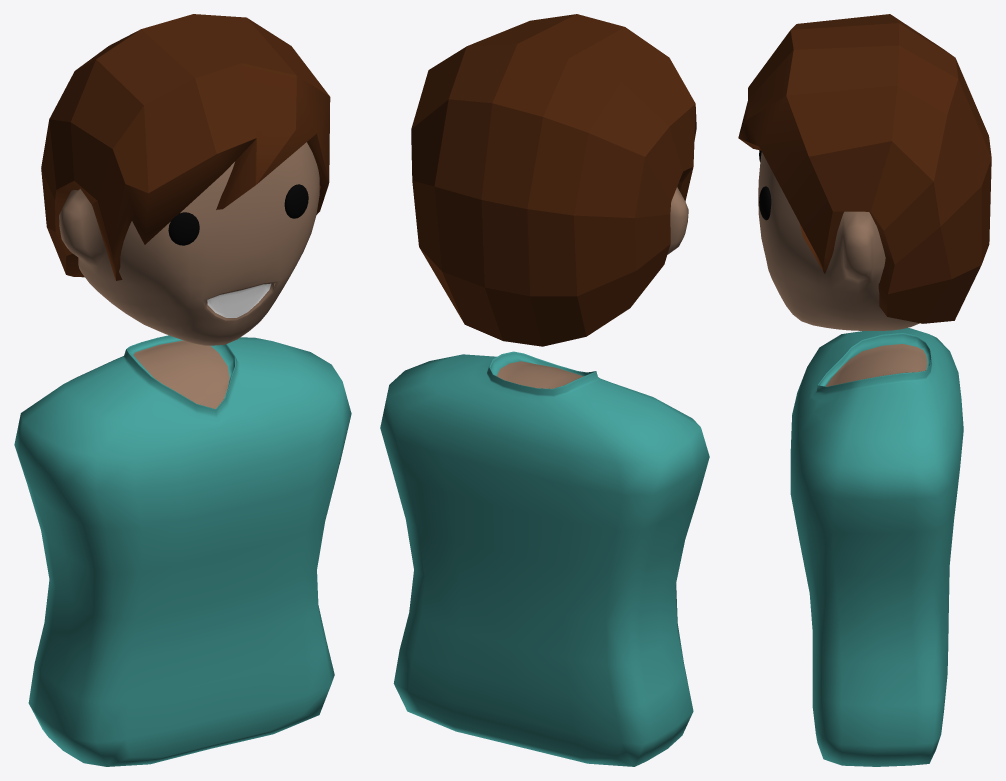
File: teleportAvatar.glb
3 views of the same model, side by side, from view 1: azimuth 30°, elevation 25°; view 2: azimuth 150°, elevation 25°; view 3: azimuth 270°, elevation 25° (orthographic). The views are drawn at different scales.
Visible parts, largest first — view 1: Body, Hair_Loft, Head, Eye_R, Eye_L; view 2: Body, Hair_Loft, Head; view 3: Body, Hair_Loft, Head.
Boxes of the visible parts, x1,y1,x2,y2 form: Body: (14,335,351,766); Hair_Loft: (41,14,330,280); Head: (59,142,319,345); Eye_R: (168,212,199,245); Eye_L: (284,184,308,218); Body: (380,351,709,766); Hair_Loft: (411,14,696,346); Head: (667,187,688,254); Body: (790,328,963,766); Hair_Loft: (738,14,991,323); Head: (758,152,919,330).
Bounding box in the file's own units: 1.83 × 4.09 × 1.38.
